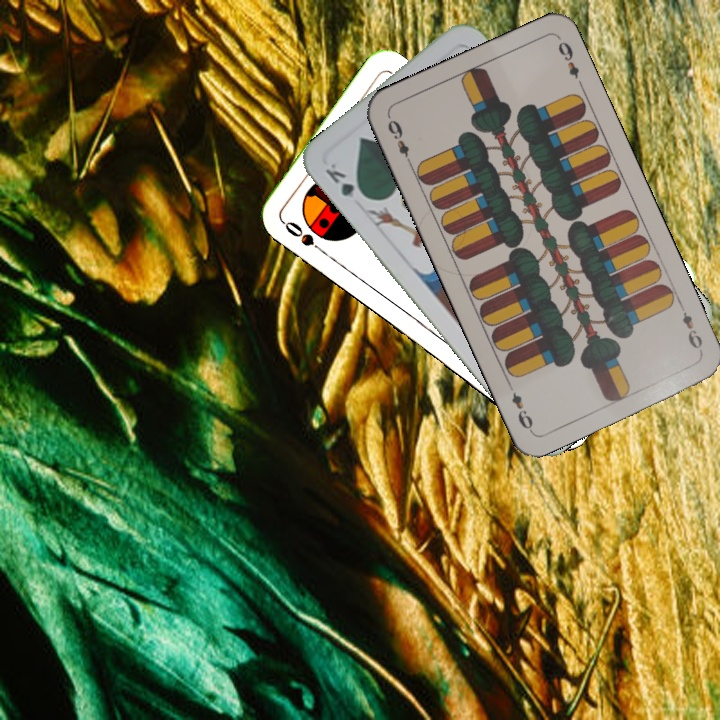E9: (383, 113, 415, 169), (675, 300, 706, 356)
GK: (321, 159, 370, 203)
SO: (279, 216, 330, 258)
